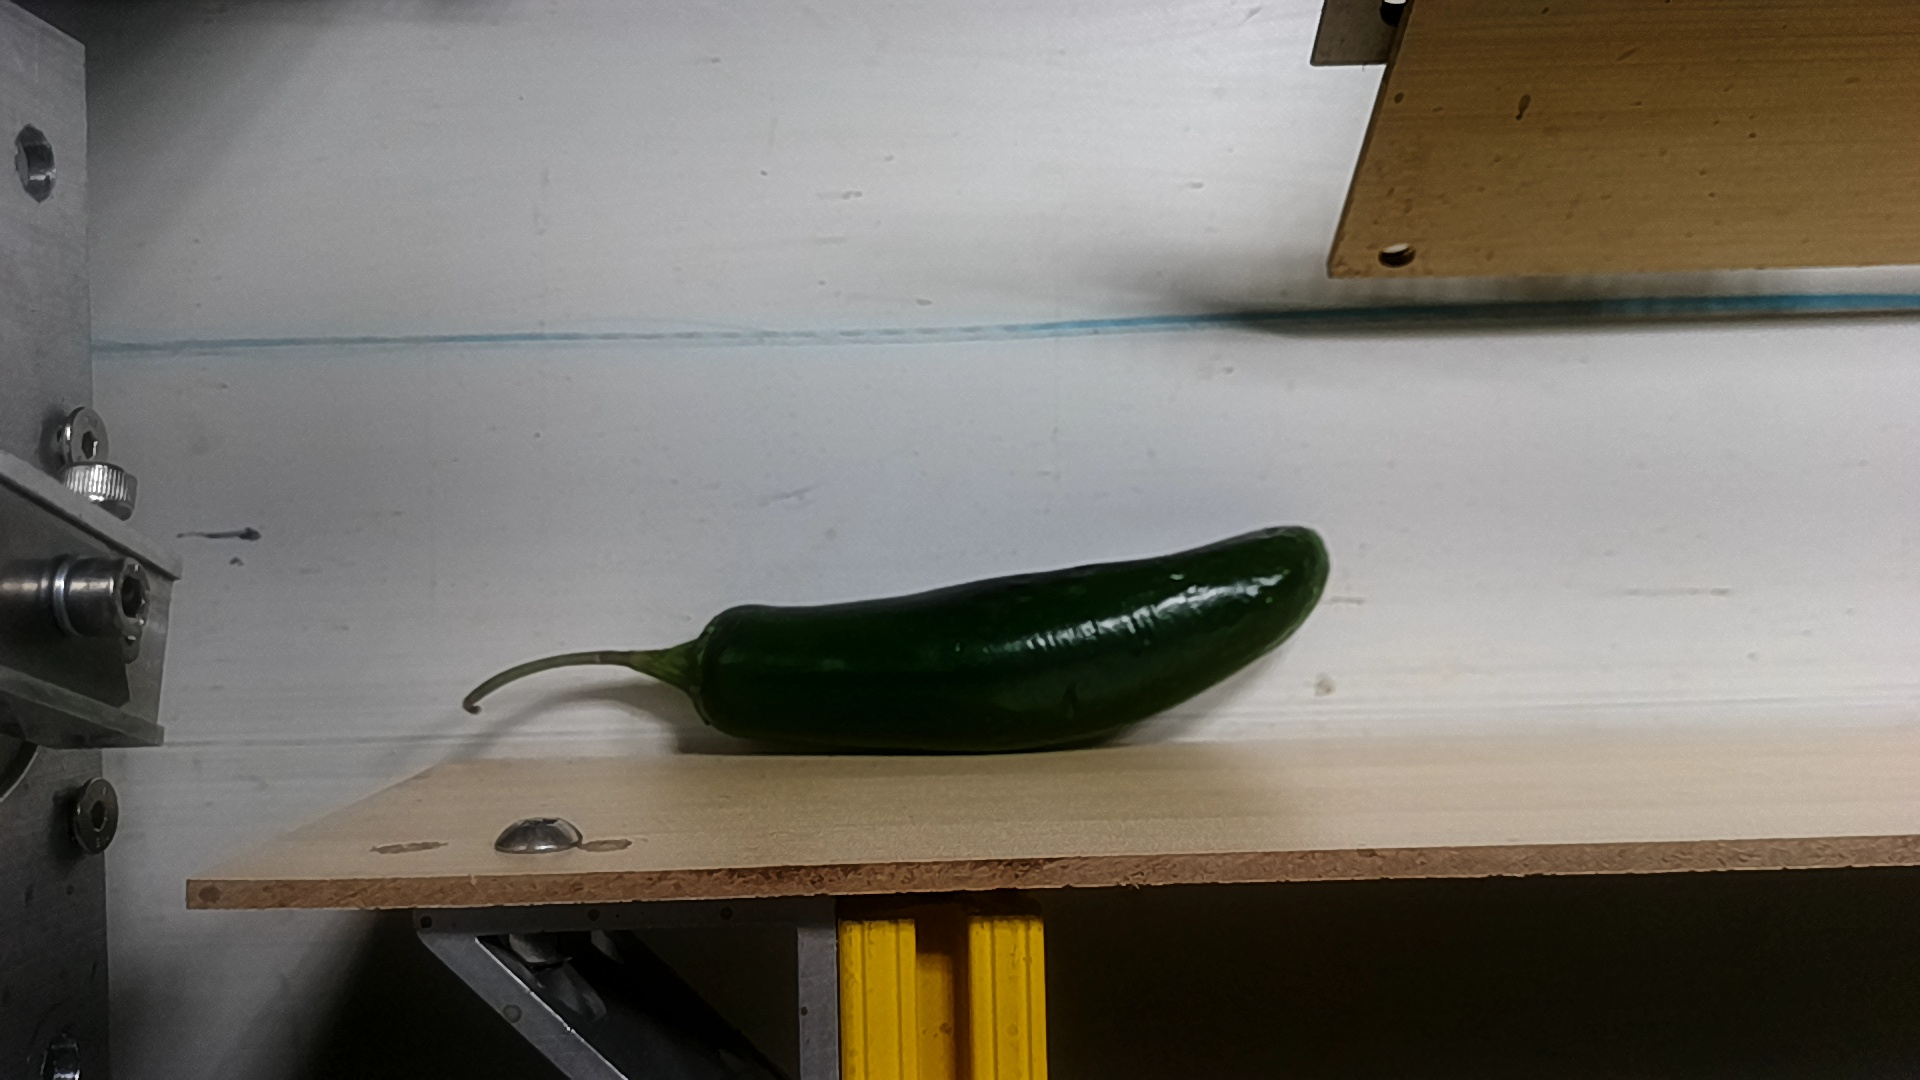Cut Point: (642, 593, 789, 749)
